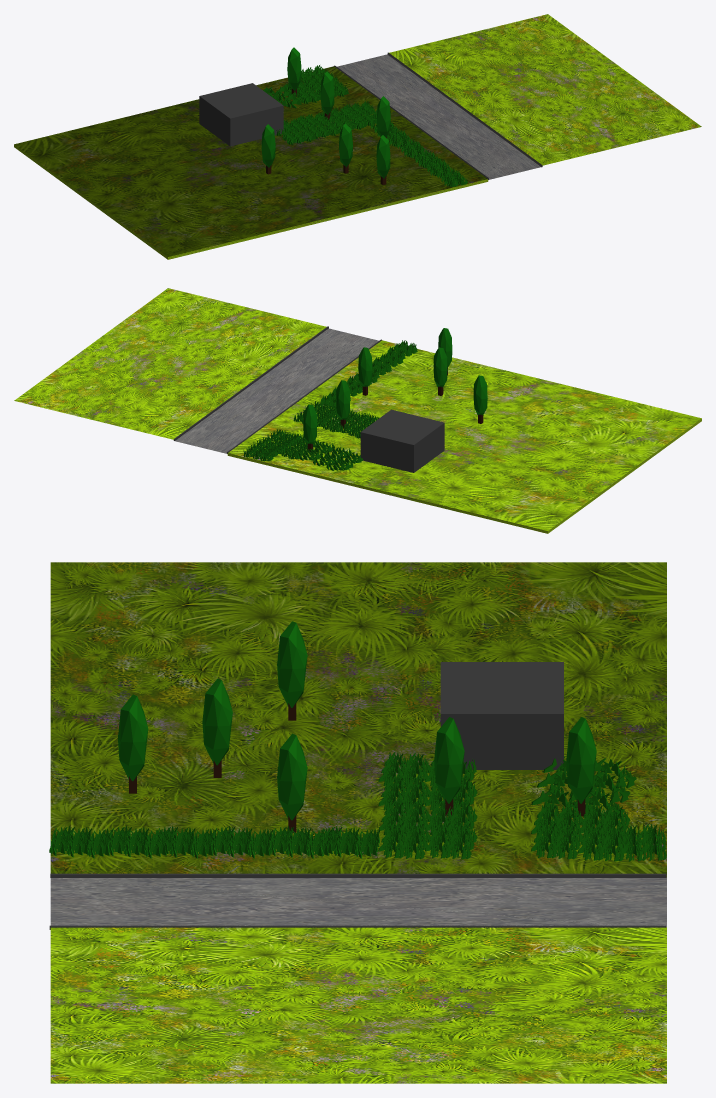
The model's file is Module_2_SM2.FBX.
The picture shows the model from 3 angles, top to bottom: view 1: azimuth 30°, elevation 25°; view 2: azimuth 150°, elevation 25°; view 3: azimuth 270°, elevation 25°; orthographic projection. The views are drawn at different scales.
Visible parts, largest first — view 1: Module_2_SM2_LOD0; view 2: Module_2_SM2_LOD0; view 3: Module_2_SM2_LOD0.
Part boxes in pixels (x1,y1,x2,y2): Module_2_SM2_LOD0: (14,14,701,259); Module_2_SM2_LOD0: (14,288,701,533); Module_2_SM2_LOD0: (49,562,666,1083).
Bounding box in the file's own units: 10005 × 5012 × 921.
